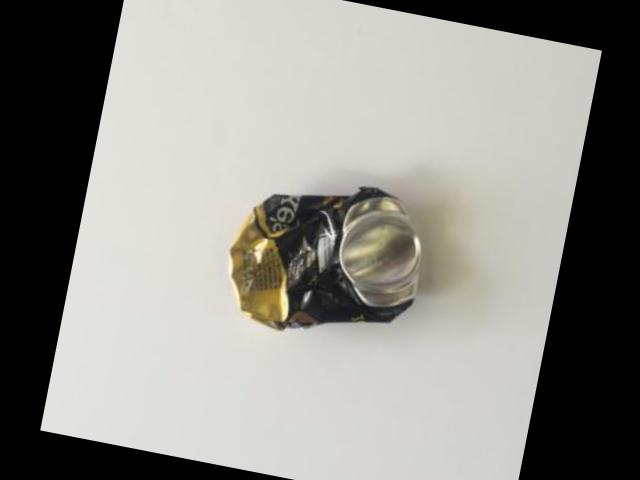metal: (231, 189, 421, 331)
